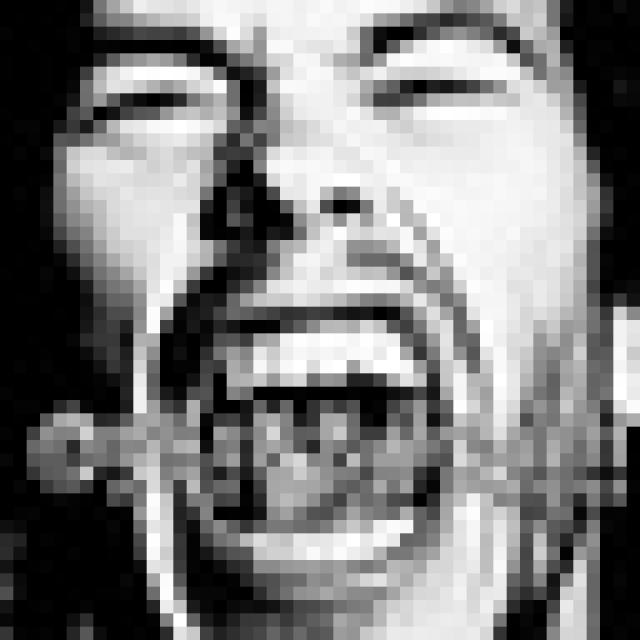angry: (70, 6, 533, 609)
